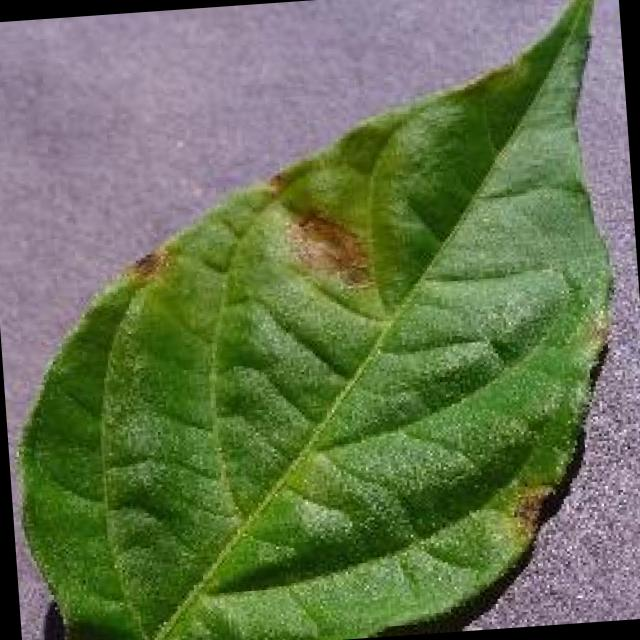Chilli_Bacterial_Spot: (0, 0, 640, 640), (255, 163, 392, 324), (276, 202, 376, 298), (504, 477, 563, 542), (120, 243, 170, 291)
